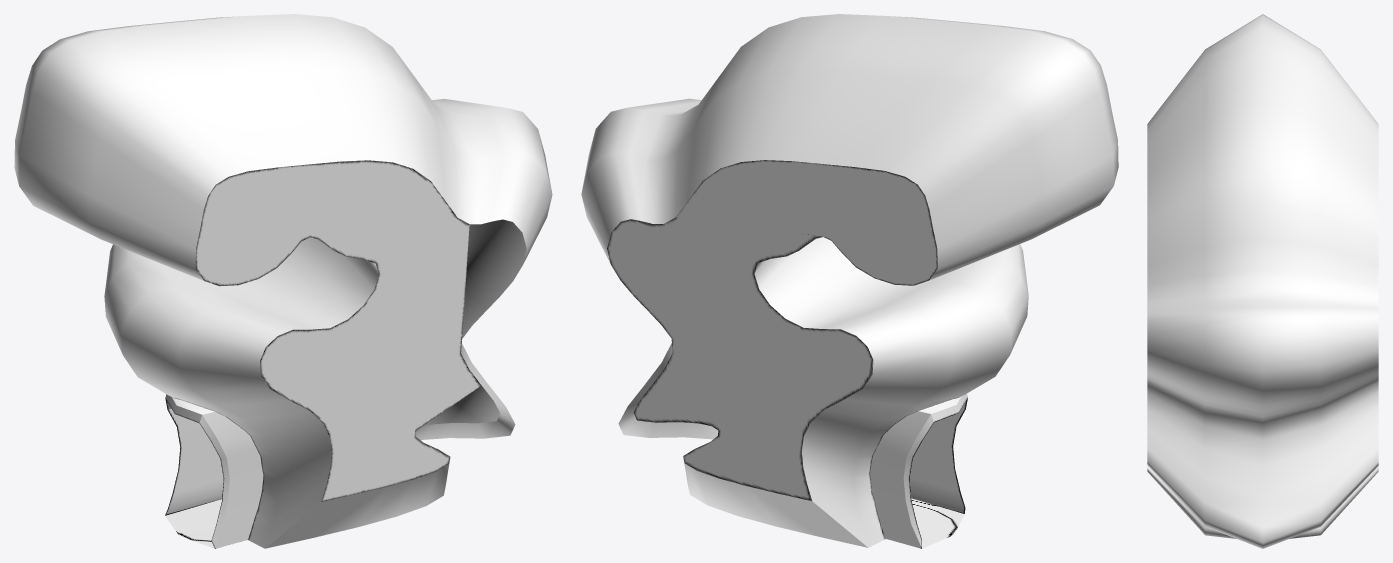
Rendered from hospital2.FBX.
3 renders of one model, left to right at view 1: azimuth 30°, elevation 25°; view 2: azimuth 150°, elevation 25°; view 3: azimuth 270°, elevation 25°, orthographic. The views are drawn at different scales.
Parts seen in each view (by area): view 1: hospital, Object; view 2: hospital, Object; view 3: hospital.
Part boxes in pixels (bbox=[...]): hospital: bbox=[14, 14, 552, 548]; Object: bbox=[165, 394, 263, 548]; hospital: bbox=[581, 14, 1118, 547]; Object: bbox=[870, 393, 967, 548]; hospital: bbox=[1147, 14, 1378, 548].
Bounding box in the file's own units: 922 × 888 × 455.
